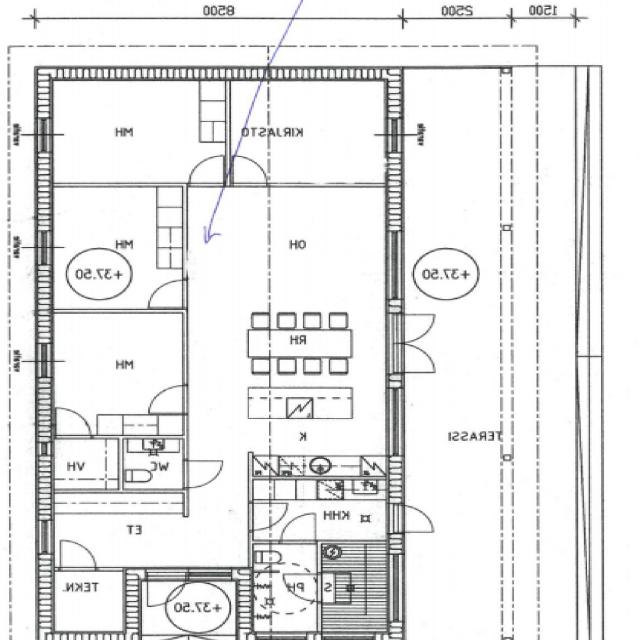door: (147, 567, 187, 613), (385, 312, 440, 342), (385, 342, 440, 372), (385, 503, 439, 532), (55, 406, 92, 439), (60, 538, 97, 571), (148, 385, 189, 413), (149, 279, 189, 307), (189, 155, 224, 187), (283, 574, 321, 602), (234, 156, 268, 187), (248, 503, 287, 530), (184, 460, 222, 487), (282, 514, 316, 542)
